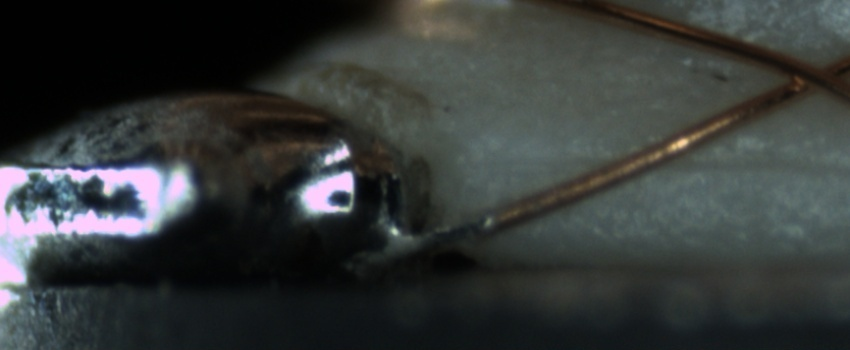CL: (761, 44, 846, 104)
DL: (486, 131, 850, 194)
TS: (371, 209, 502, 260)
TTCW: (370, 195, 537, 262)
